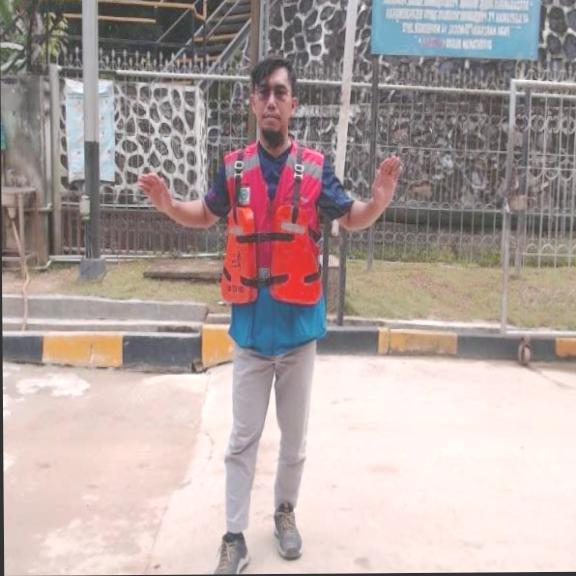safety_vest: (218, 197, 321, 308)
